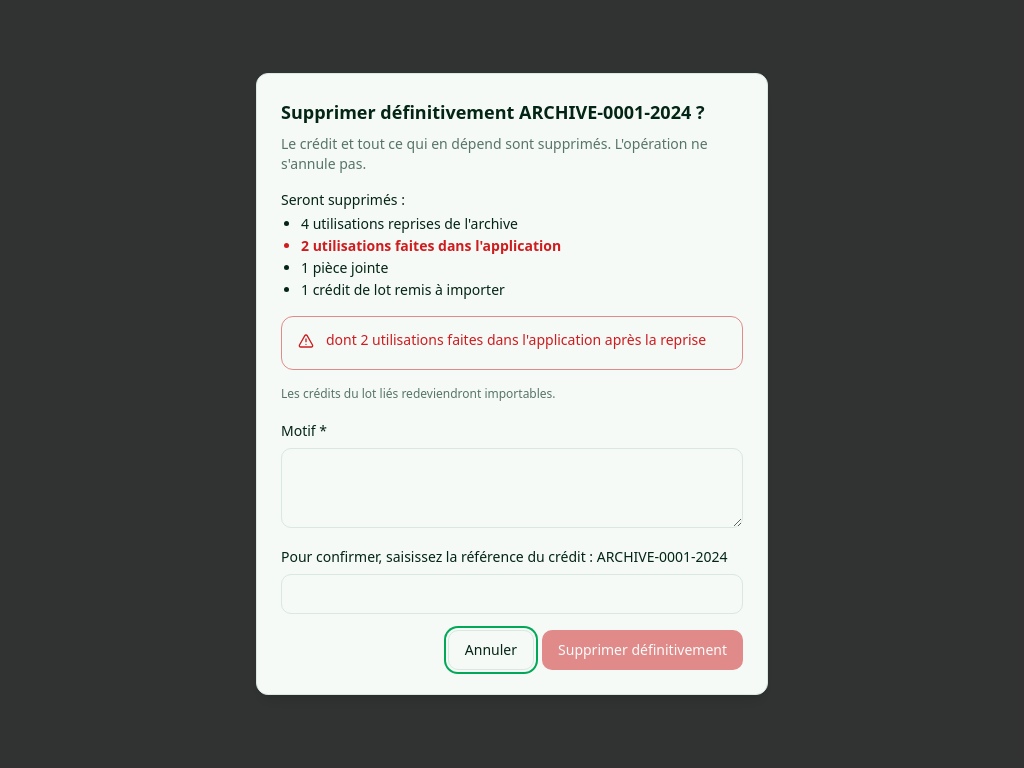
it: crédit repris de l'archive : dialogues › suppression : aperçu, utilisations de l'application mises en évidence, bouton actif après motif et référence
Later steps or results of the test are not shown.
Expected: the text "dont 2 utilisations faites dans l'application après la reprise" is shown, [298,330,726,350]
Expected: the list item "4 utilisations reprises de l'archive" is shown, [301,214,518,233]
In the text box labelled "Motif *": (512, 488) [281,448,743,528], type "Doublon"
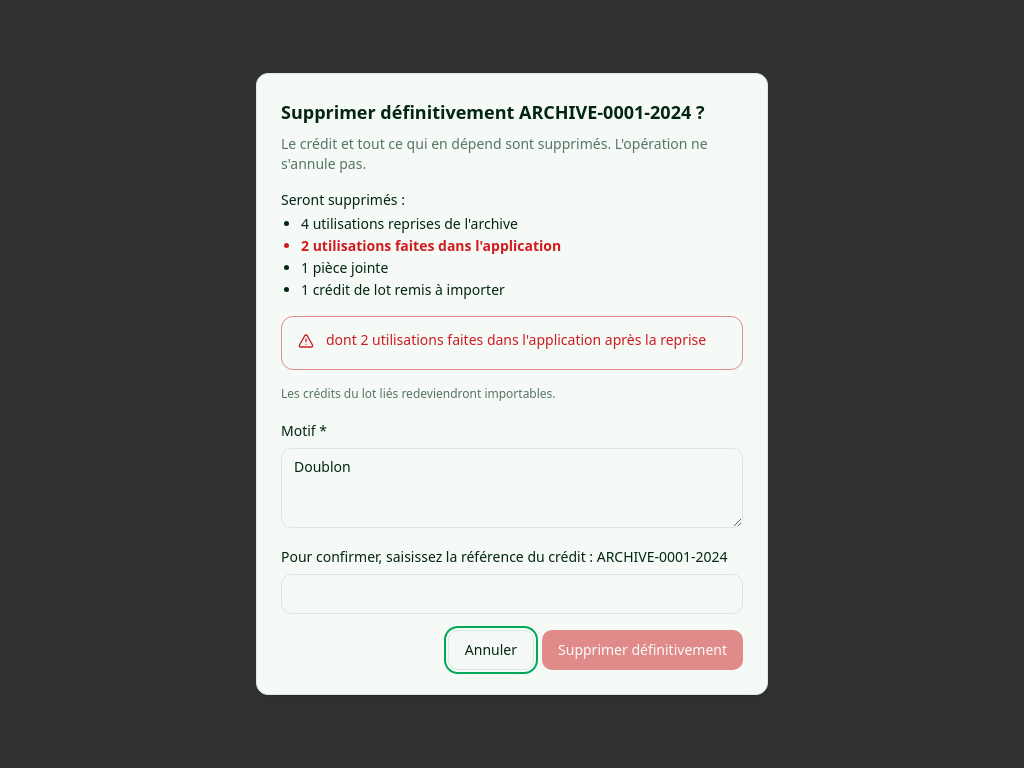
Expected: the button "Supprimer définitivement" is disabled, [542,630,743,670]
In the field labelled "saisissez la référence": (512, 594) [281,574,743,614], type "ARCHIVE-0001"
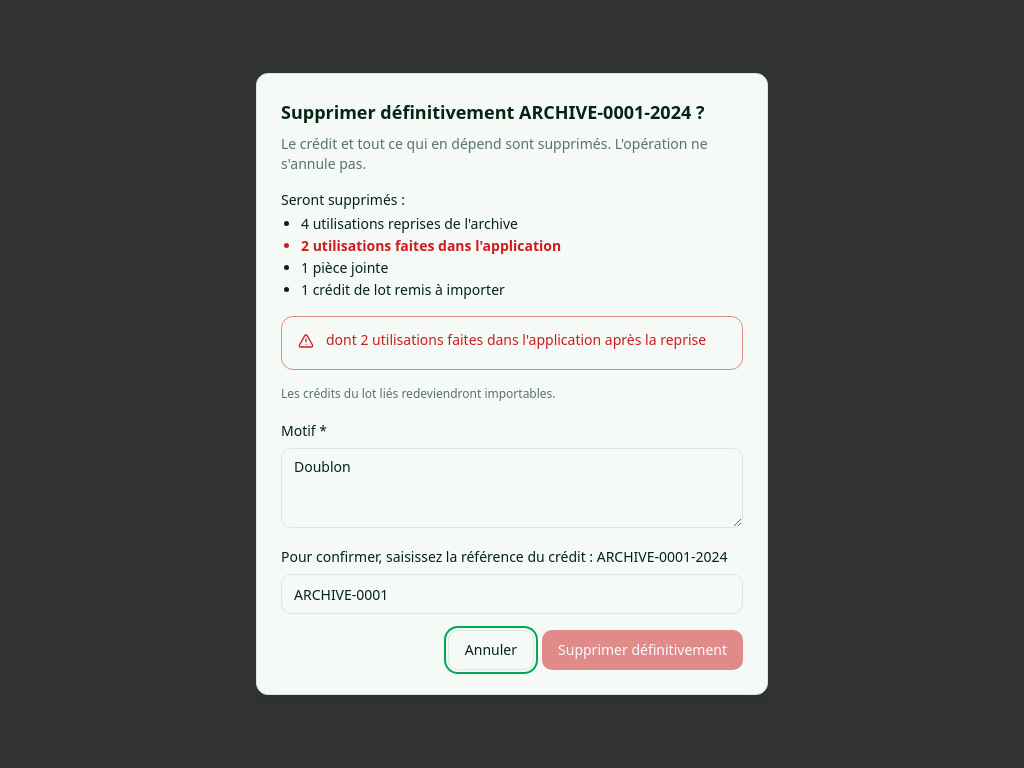
Expected: the button "Supprimer définitivement" is disabled, [542,630,743,670]
Replace the text in the field labelled "saisissez la référence" with "ARCHIVE-0001-2024": (512, 594) [281,574,743,614]
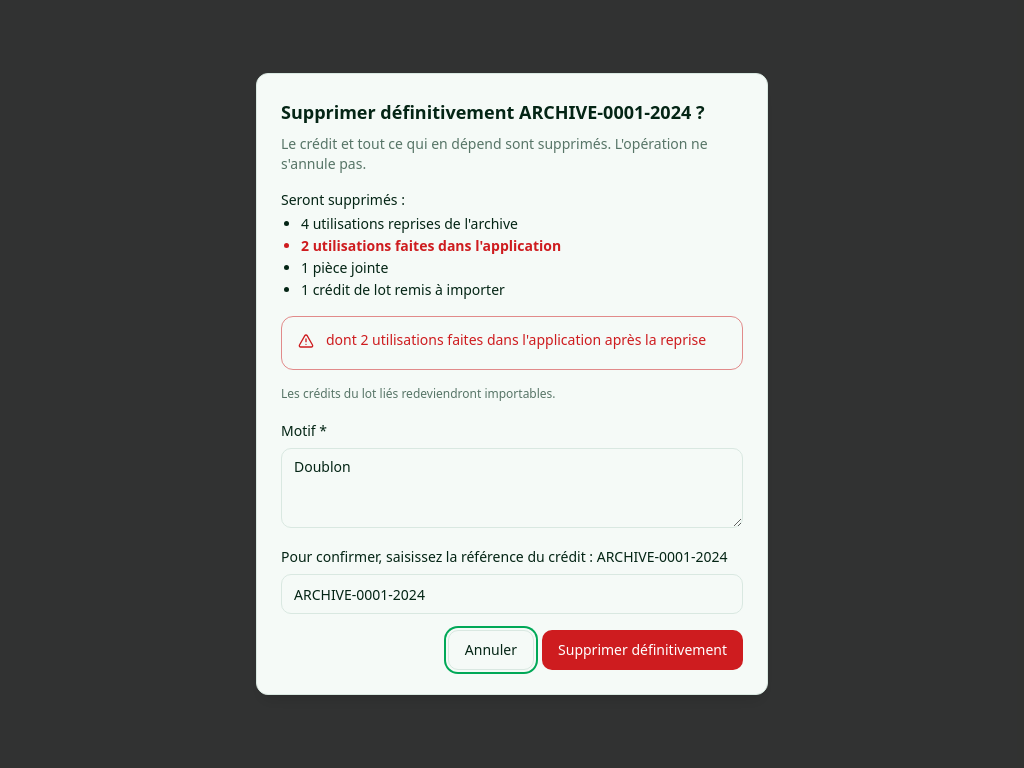
Now the button "Supprimer définitivement" is enabled, box [542,630,743,670]
